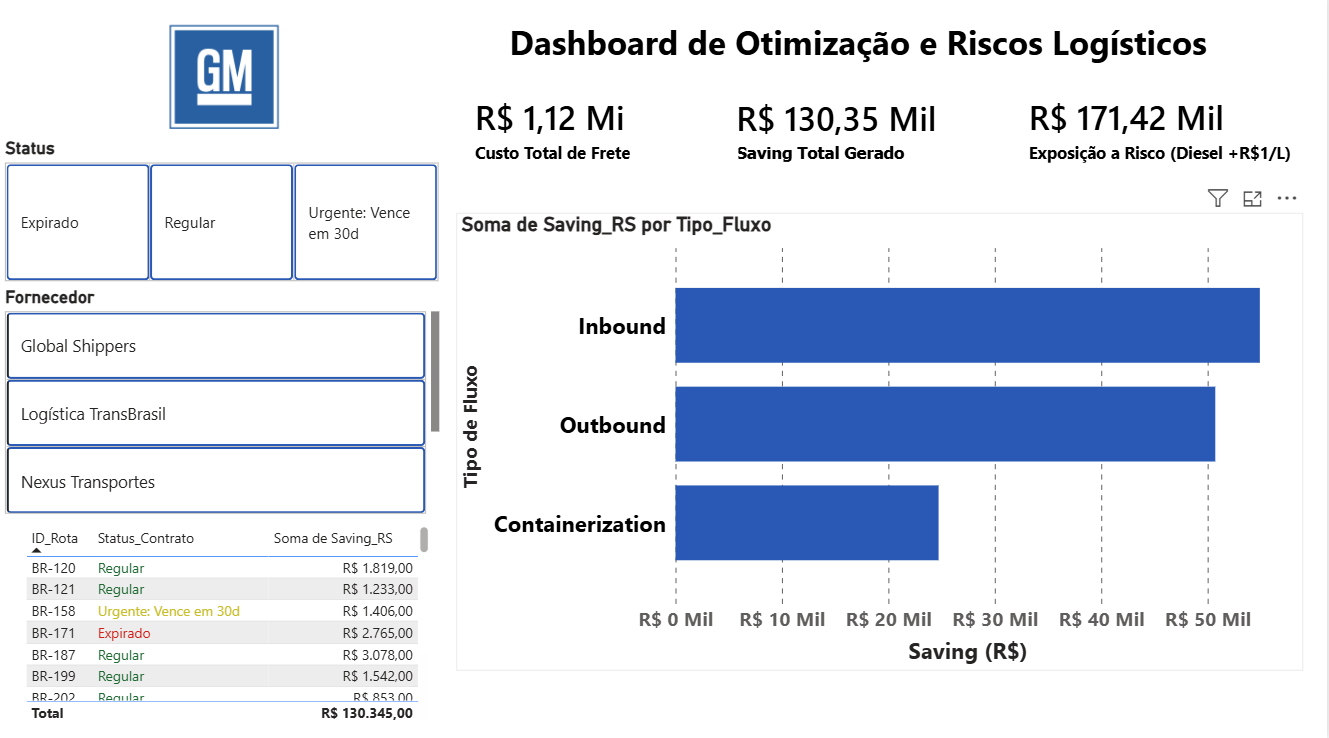

Layout of this report page (visuals, bound fields, positions):
{"tool":"powerbi","page":{"name":"Página 1","canvas":[1280,720],"ordinal":0},"visuals":[{"type":"cardVisual","fields":{"Data":["Sum(dados_logisticos_GM_processados.Saving_RS)"]},"box":[681.6,79.6,282.3,101.3],"z":0},{"type":"cardVisual","fields":{"Data":["Sum(dados_logisticos_GM_processados.Custo_Atual_RS)"]},"box":[418.6,88.1,283.5,101.3],"z":1000},{"type":"barChart","fields":{"Category":["dados_logisticos_GM_processados.Tipo_Fluxo"],"Y":["Sum(dados_logisticos_GM_processados.Saving_RS)"]},"box":[440.4,211.1,816.8,441.6],"z":2000},{"type":"image","box":[0,19.3,429.5,119.4],"z":3000},{"type":"textbox","box":[372.8,19.3,871.1,53.1],"z":4000},{"type":"cardVisual","fields":{"Data":["dados_logisticos_GM_processados.Impacto_Diesel_Mais_1Real"]},"box":[954.3,88.1,316.1,101.3],"z":5000},{"type":"advancedSlicerVisual","title":"Status","fields":{"Values":["dados_logisticos_GM_processados.Status_Contrato"]},"box":[0,138.7,429.5,143.6],"z":6000},{"type":"advancedSlicerVisual","title":"Fornecedor","fields":{"Values":["dados_logisticos_GM_processados.Fornecedor_Actual"]},"box":[0,282.3,429.5,226.8],"z":7000},{"type":"tableEx","fields":{"Values":["dados_logisticos_GM_processados.ID_Rota","dados_logisticos_GM_processados.Status_Contrato","Sum(dados_logisticos_GM_processados.Saving_RS)"]},"box":[19.3,509.1,399.3,199.1],"z":7001}]}

Visuals, with their boxes in screenshot pixels (x1, y1, x2, y2), scaled from the page's 1280x720 canvas onto the 1329x738 screenshot:
cardVisual - Sum(dados_logisticos_GM_processados.Saving_RS): [x1=708, y1=82, x2=1001, y2=185]
cardVisual - Sum(dados_logisticos_GM_processados.Custo_Atual_RS): [x1=435, y1=90, x2=729, y2=194]
barChart - dados_logisticos_GM_processados.Tipo_Fluxo x Sum(dados_logisticos_GM_processados.Saving_RS): [x1=457, y1=216, x2=1305, y2=669]
image: [x1=0, y1=20, x2=446, y2=142]
textbox: [x1=387, y1=20, x2=1292, y2=74]
cardVisual - dados_logisticos_GM_processados.Impacto_Diesel_Mais_1Real: [x1=991, y1=90, x2=1319, y2=194]
"Status" advancedSlicerVisual: [x1=0, y1=142, x2=446, y2=289]
"Fornecedor" advancedSlicerVisual: [x1=0, y1=289, x2=446, y2=522]
tableEx - dados_logisticos_GM_processados.ID_Rota x dados_logisticos_GM_processados.Status_Contrato: [x1=20, y1=522, x2=435, y2=726]
